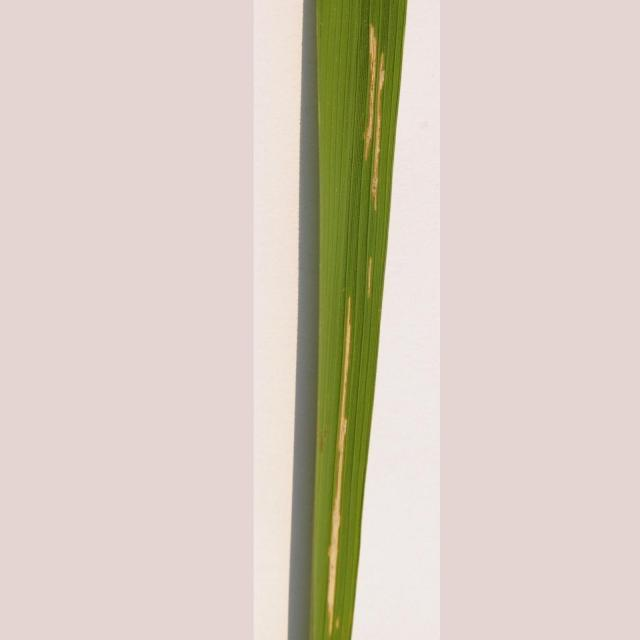leaf blight: (307, 26, 394, 632)
